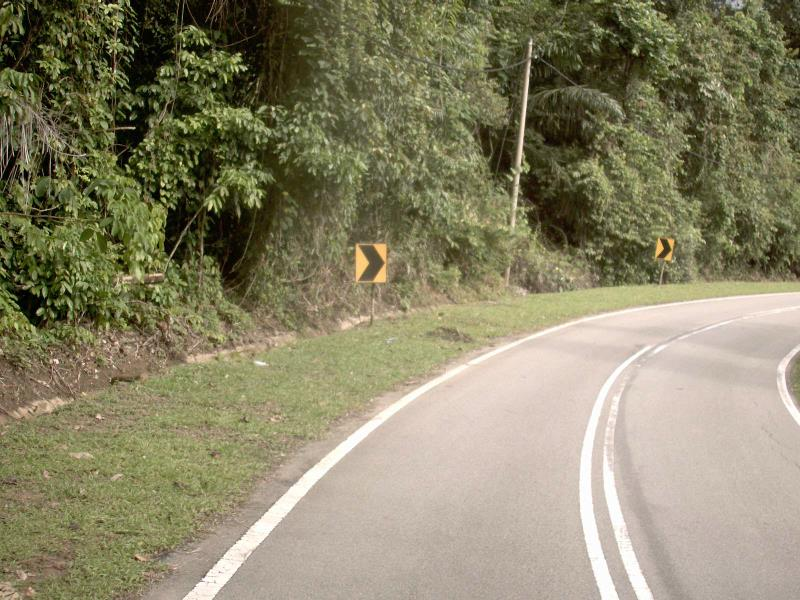traffic_sign: (345, 232, 397, 295)
